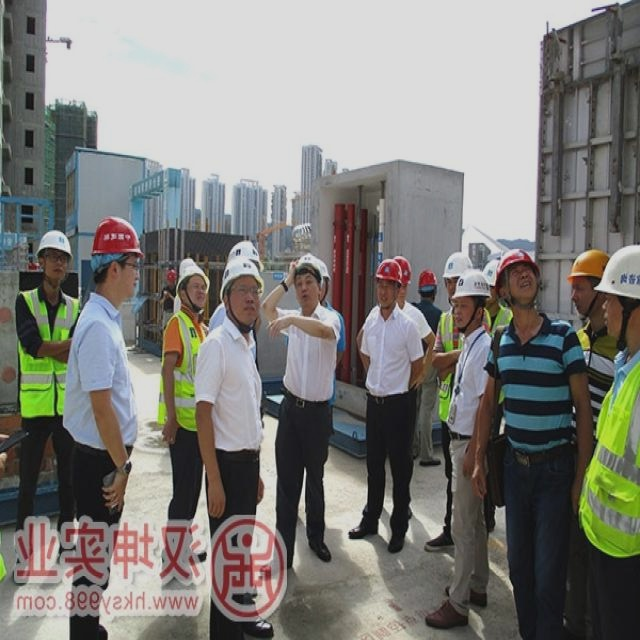Con_Casco: (593, 242, 639, 340), (36, 228, 75, 286)
Con_Chaleco: (577, 347, 640, 553), (13, 286, 80, 422)
Sin_Chaleco: (195, 321, 267, 448), (359, 307, 418, 399)
